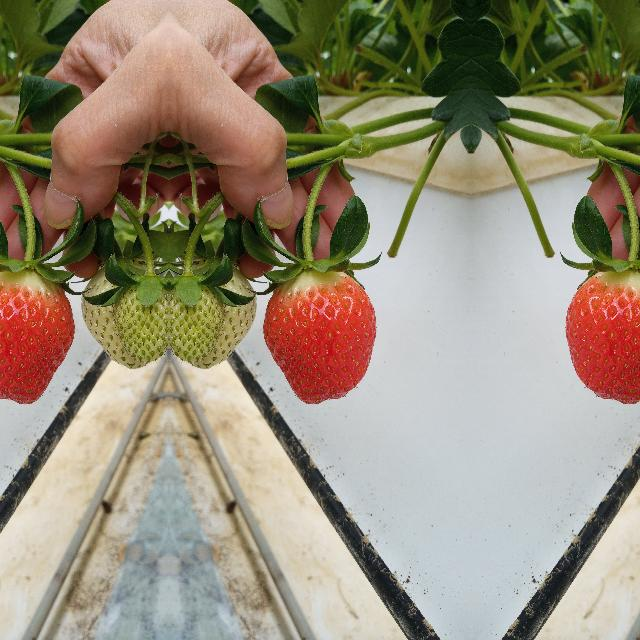Health_100: (262, 268, 376, 404), (564, 267, 640, 404), (0, 267, 74, 404)
Health_25: (174, 252, 226, 382), (110, 252, 162, 382), (78, 270, 142, 358), (195, 270, 258, 358)
